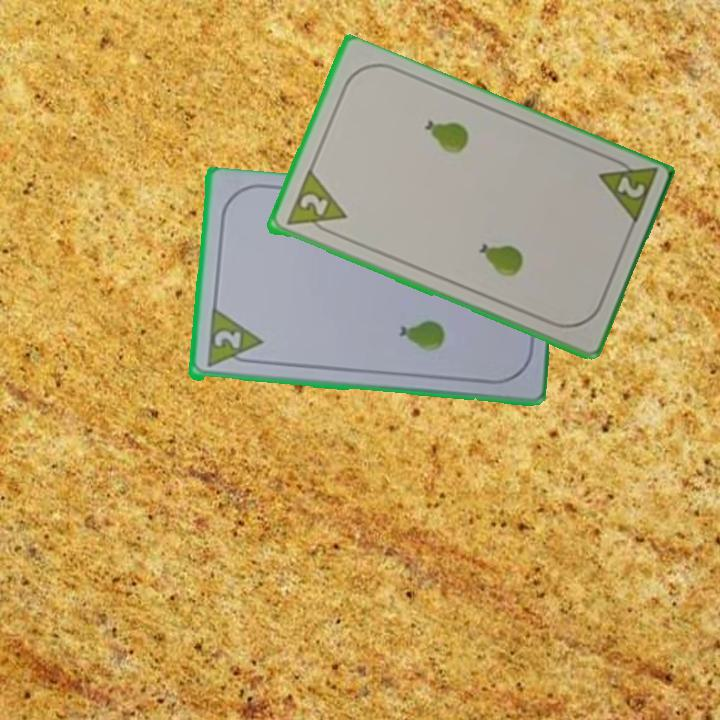2p: (594, 152, 660, 230), (282, 168, 349, 241), (210, 326, 244, 354)
